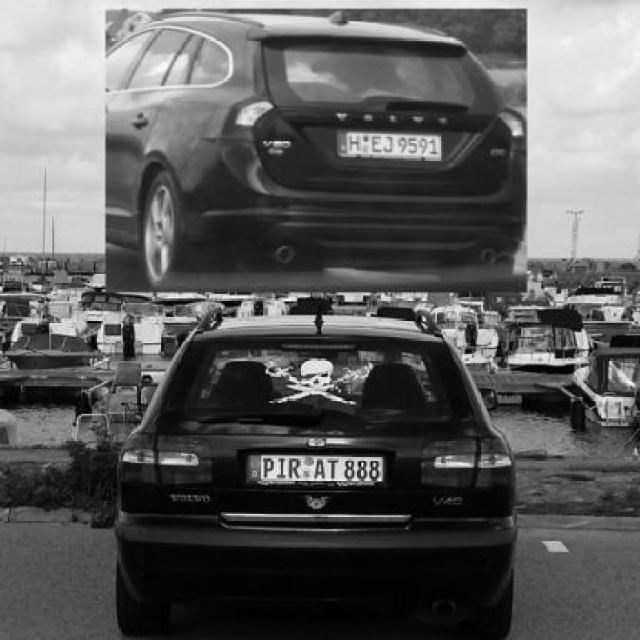car: (112, 314, 532, 640), (106, 24, 540, 288)
license-plate: (257, 451, 385, 486), (340, 124, 446, 164)
